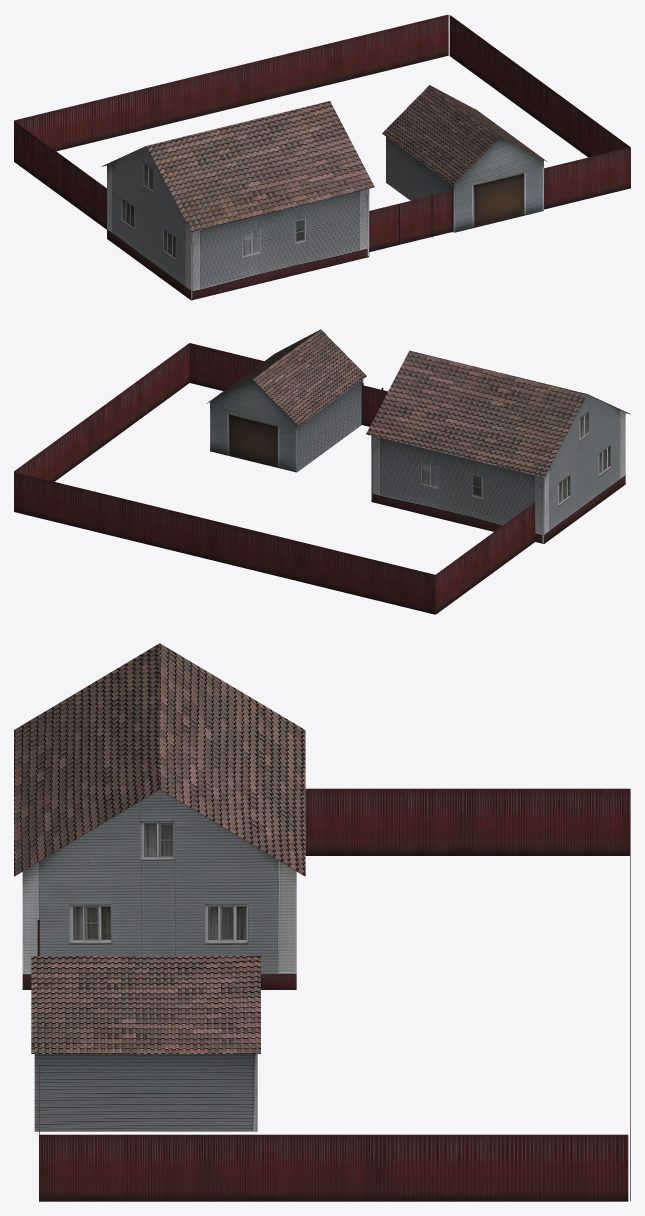
File: r254_isilkul_dom.FBX
3 renders of one model, top to bottom at view 1: azimuth 30°, elevation 25°; view 2: azimuth 150°, elevation 25°; view 3: azimuth 270°, elevation 25°, orthographic. The views are drawn at different scales.
Parts seen in each view (by area): view 1: r254_isilkul_dom; view 2: r254_isilkul_dom; view 3: r254_isilkul_dom.
Part boxes in pixels (x1=…): r254_isilkul_dom: x1=14, y1=14, x2=630, y2=300; r254_isilkul_dom: x1=14, y1=329, x2=630, y2=614; r254_isilkul_dom: x1=14, y1=643, x2=630, y2=1201.
Bounding box in the file's own units: 22.81 × 16.73 × 6.08.
